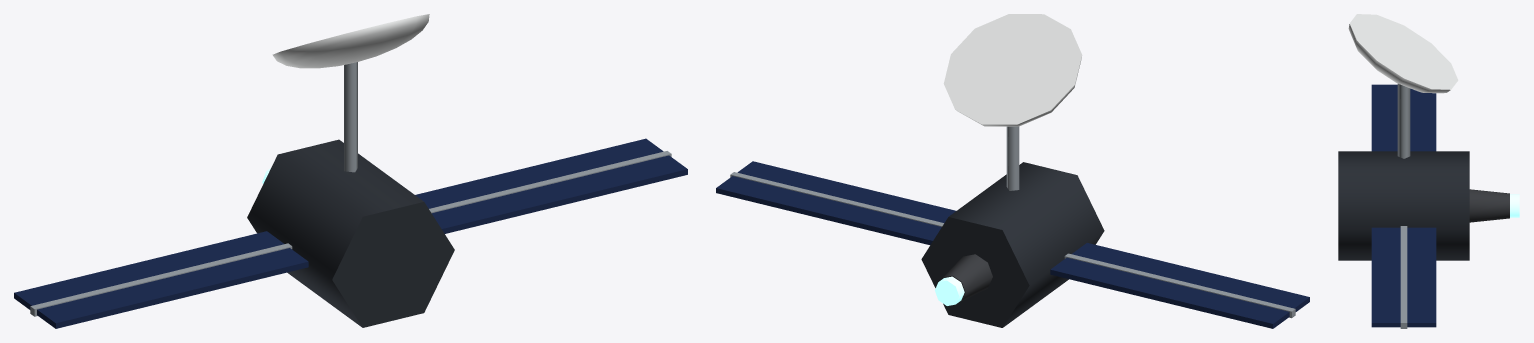
Rendered from space_ship_probe_mk4.glb.
The picture shows the model from 3 angles, left to right: view 1: azimuth 30°, elevation 25°; view 2: azimuth 150°, elevation 25°; view 3: azimuth 270°, elevation 25°; orthographic projection. The views are drawn at different scales.
Parts seen in each view (by area): view 1: body, solar_0, solar_1, antenna_0; view 2: body, antenna_0, solar_0, solar_1, engine_0; view 3: body, solar_1, antenna_0, solar_0, engine_0.
Boxes of the visible parts, <box> form: body: <box>247,139,454,327</box>; solar_0: <box>14,231,308,328</box>; solar_1: <box>415,138,687,233</box>; antenna_0: <box>272,14,429,172</box>; body: <box>921,162,1104,327</box>; antenna_0: <box>943,14,1082,190</box>; solar_0: <box>1050,243,1309,328</box>; solar_1: <box>716,161,955,244</box>; engine_0: <box>935,254,992,305</box>; body: <box>1338,151,1469,260</box>; solar_1: <box>1371,226,1436,328</box>; antenna_0: <box>1348,14,1458,158</box>; solar_0: <box>1371,84,1436,151</box>; engine_0: <box>1469,189,1519,222</box>.
Size of what is drawn, in the model's own units: 7.06 by 3.18 by 2.25.
